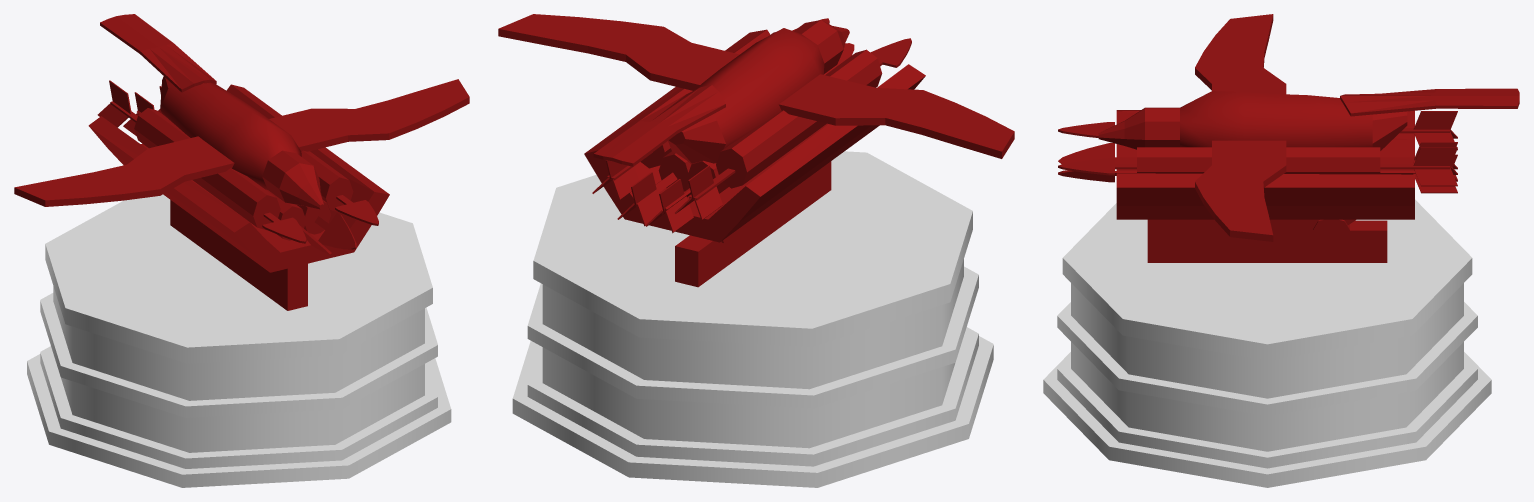
File: darkness_tower_rocket2.FBX
3 renders of one model, left to right at view 1: azimuth 30°, elevation 25°; view 2: azimuth 150°, elevation 25°; view 3: azimuth 270°, elevation 25°, orthographic. The views are drawn at different scales.
Visible parts, largest first — view 1: platform_rocket2, Cylinder023; view 2: platform_rocket2, Cylinder023; view 3: platform_rocket2, Cylinder023.
Boxes of the visible parts, bbox=[...] form: platform_rocket2: bbox=[27, 194, 451, 487]; Cylinder023: bbox=[14, 14, 469, 310]; platform_rocket2: bbox=[512, 151, 993, 487]; Cylinder023: bbox=[498, 14, 1014, 287]; platform_rocket2: bbox=[1043, 199, 1491, 487]; Cylinder023: bbox=[1058, 14, 1519, 262].
Size of the model in its own units: 10.51 by 6.7 by 9.56.
